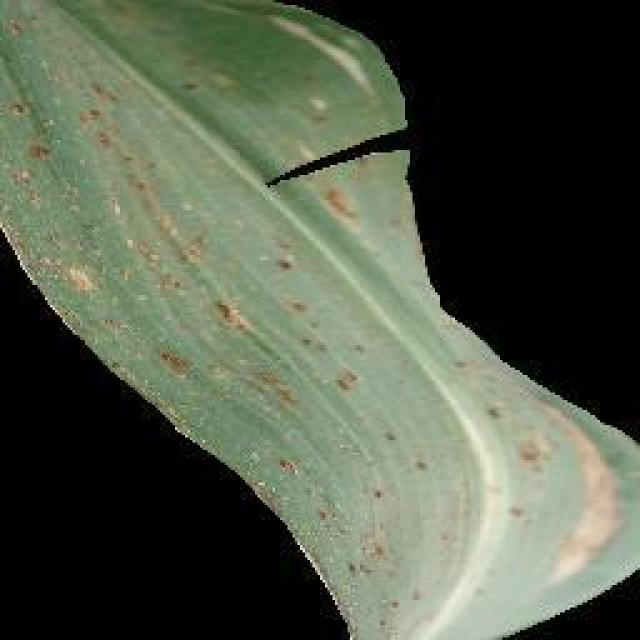Corn Common Rust: (167, 113, 535, 535)
